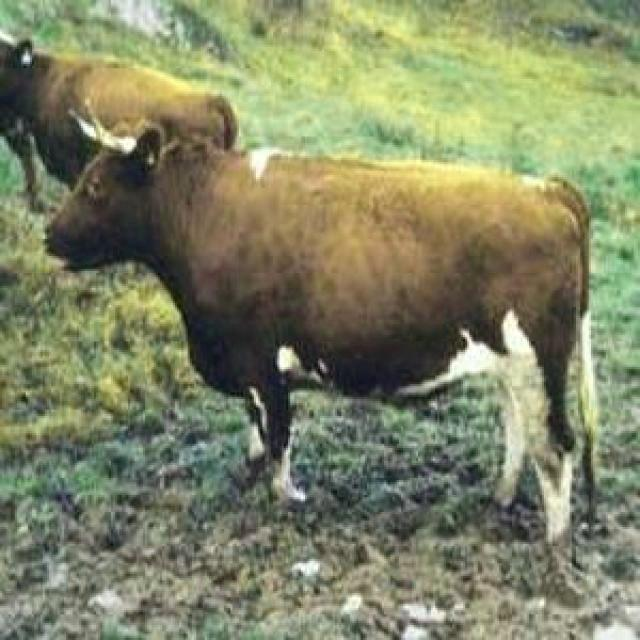cow: (49, 111, 596, 554)
